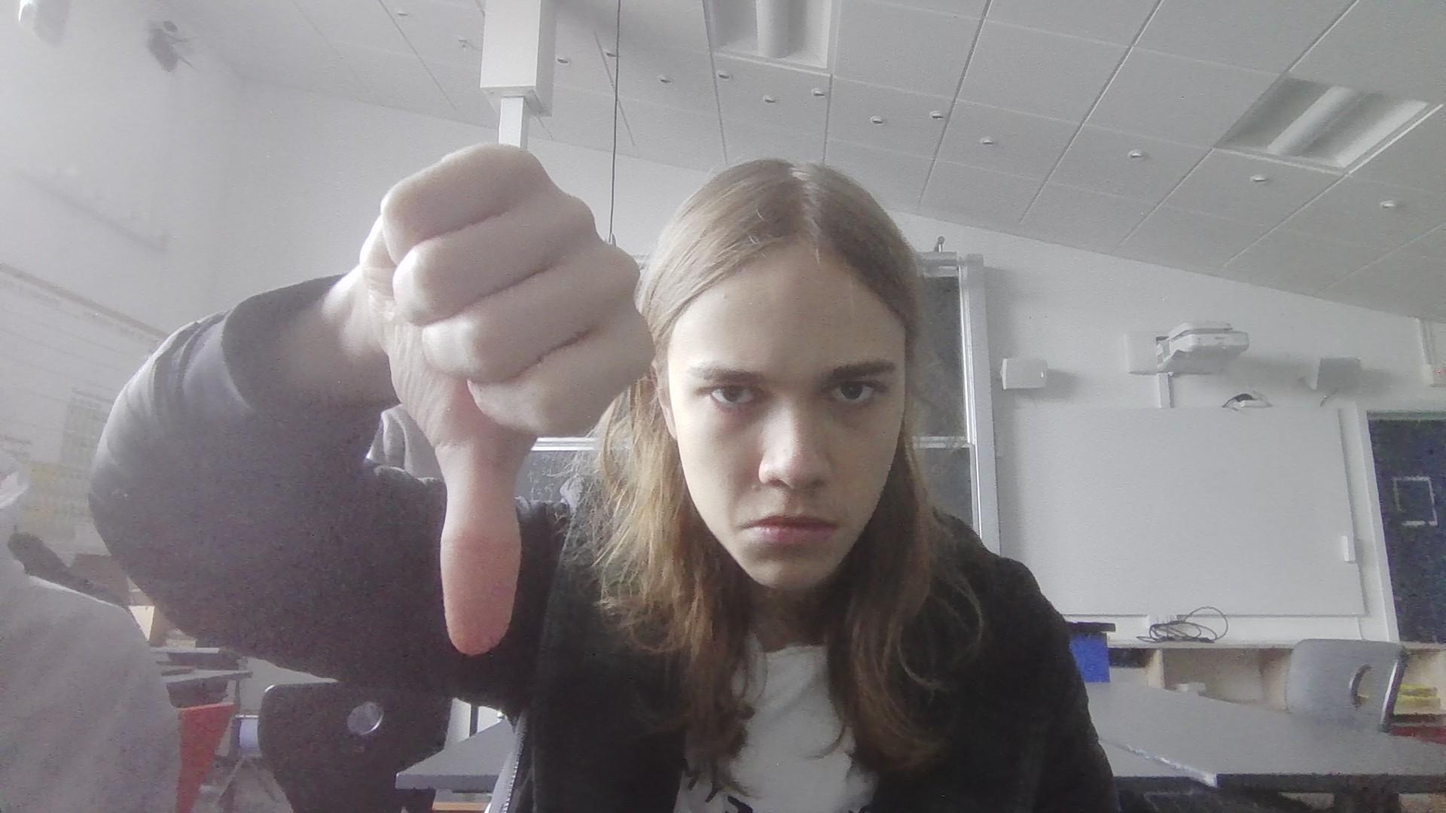thumbs down: (370, 121, 655, 677)
